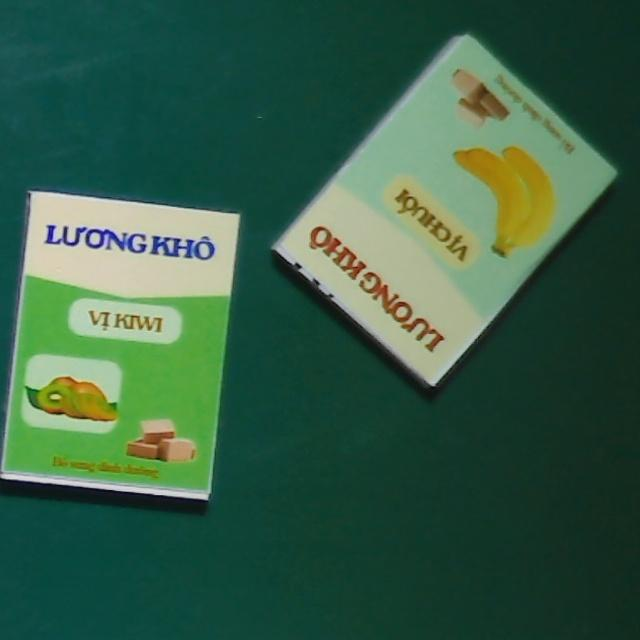chuoi: (267, 26, 624, 391)
kiwi: (0, 189, 239, 500)
